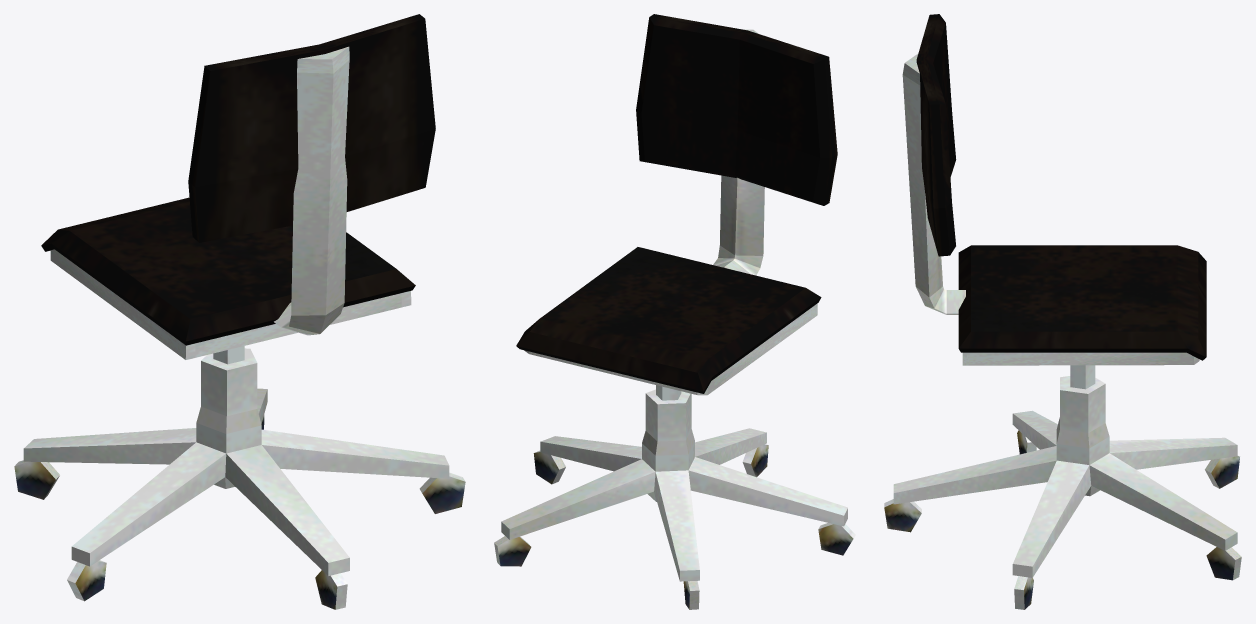
Rendered from office_chair_black_alt.obj.
3 renders of one model, left to right at view 1: azimuth 30°, elevation 25°; view 2: azimuth 150°, elevation 25°; view 3: azimuth 270°, elevation 25°, orthographic. The views are drawn at different scales.
Parts seen in each view (by area): view 1: office_chair_black_alt; view 2: office_chair_black_alt; view 3: office_chair_black_alt.
Boxes of the visible parts, box(x1,y1,x2,y2) form: office_chair_black_alt: box(14, 14, 465, 609); office_chair_black_alt: box(494, 14, 855, 609); office_chair_black_alt: box(884, 14, 1241, 609).
Size of the model in its own units: 0.8196 by 1.1 by 0.7513.
